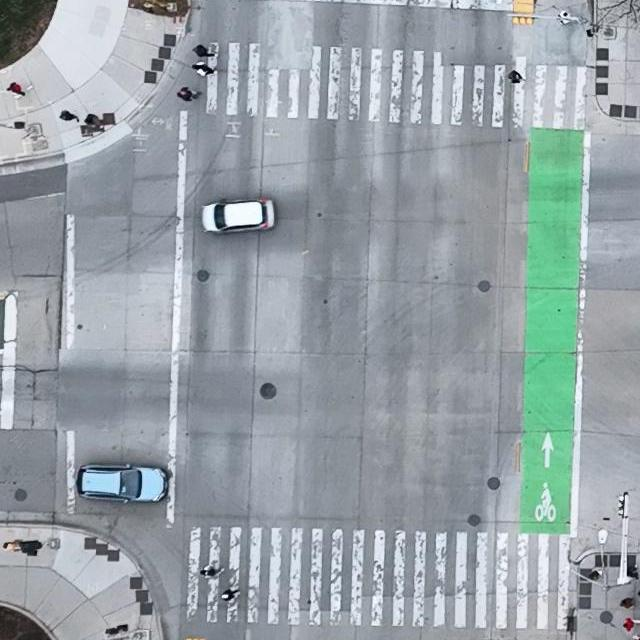car: (75, 463, 170, 504), (201, 198, 276, 235)
